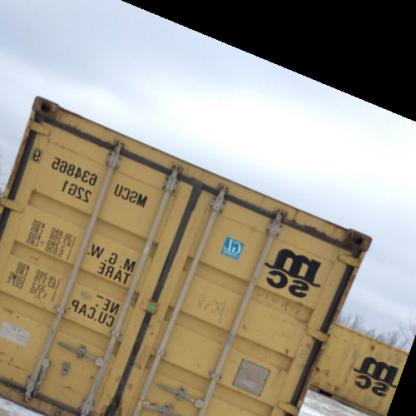Damage: (294, 212, 370, 255), (0, 347, 35, 398), (188, 284, 228, 328), (257, 286, 307, 317), (32, 96, 74, 126), (0, 297, 23, 323), (275, 343, 292, 378), (81, 356, 103, 380), (18, 247, 42, 268)
